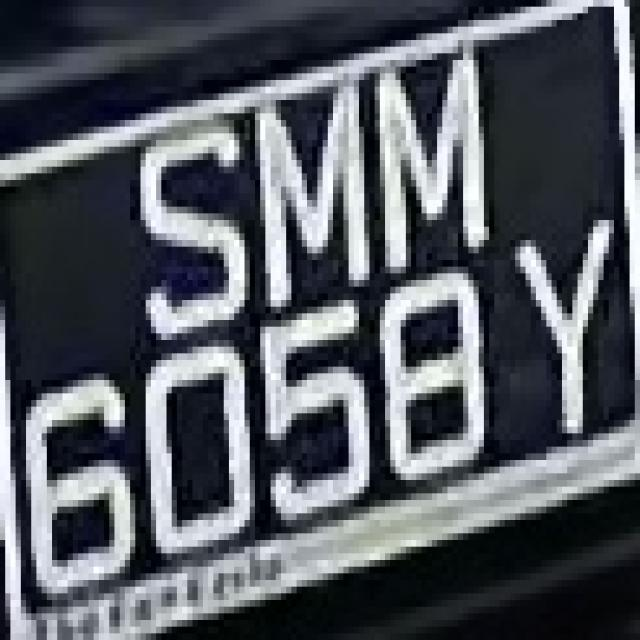0: (130, 333, 265, 560)
5: (255, 293, 390, 520)
6: (16, 366, 135, 606)
8: (364, 247, 500, 493)
M: (239, 47, 380, 320), (364, 40, 489, 260)
S: (125, 107, 250, 353)
Y: (489, 220, 624, 460)
